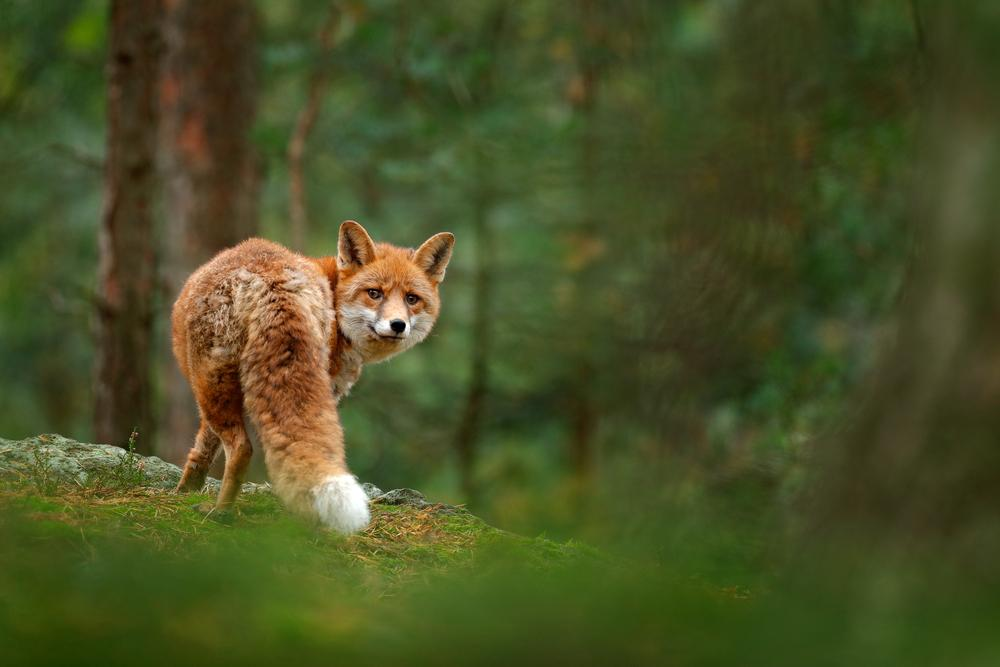fox: (125, 162, 535, 577)
